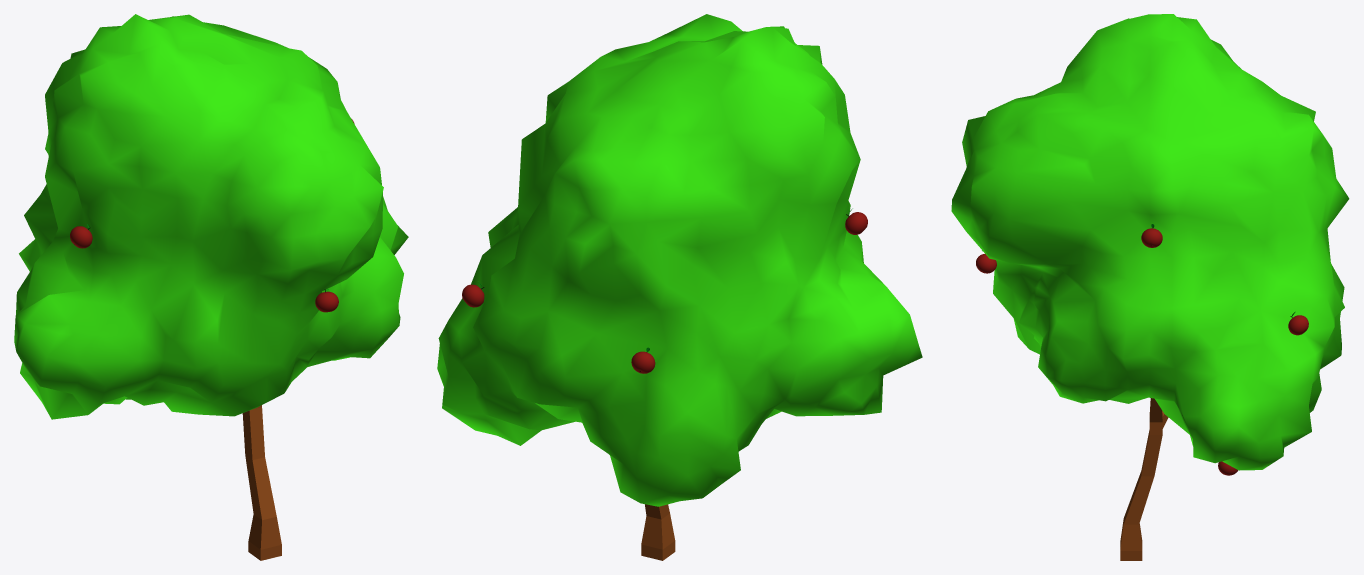
The model's file is SM_AppleTree_002.fbx.
The picture shows the model from 3 angles, left to right: view 1: azimuth 30°, elevation 25°; view 2: azimuth 150°, elevation 25°; view 3: azimuth 270°, elevation 25°; orthographic projection. The views are drawn at different scales.
Visible parts, largest first — view 1: AppleTree_02; view 2: AppleTree_02; view 3: AppleTree_02.
Boxes of the visible parts, x1,y1,x2,y2 form: AppleTree_02: [14, 14, 408, 560]; AppleTree_02: [437, 14, 922, 560]; AppleTree_02: [951, 14, 1349, 560].
Bounding box in the file's own units: 442 × 559 × 407.
